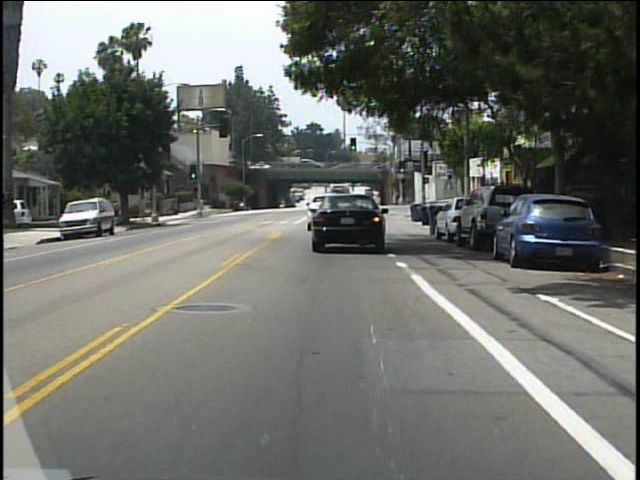person: (114, 199, 122, 224)
